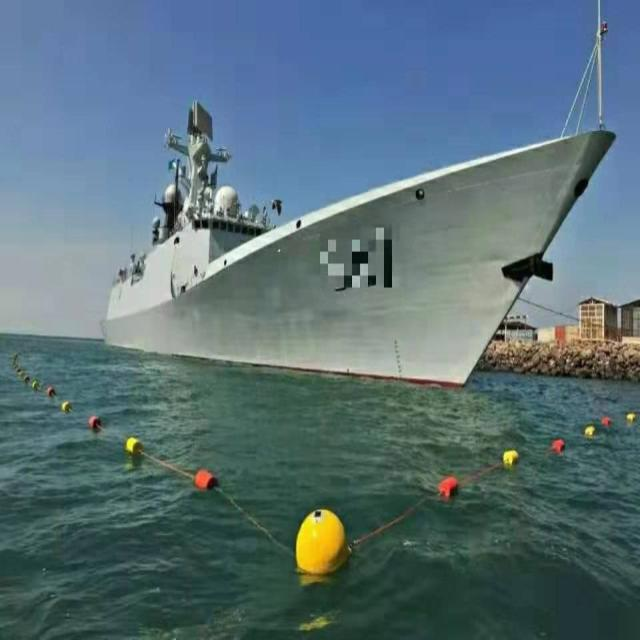navalvessels: (96, 86, 616, 393)
